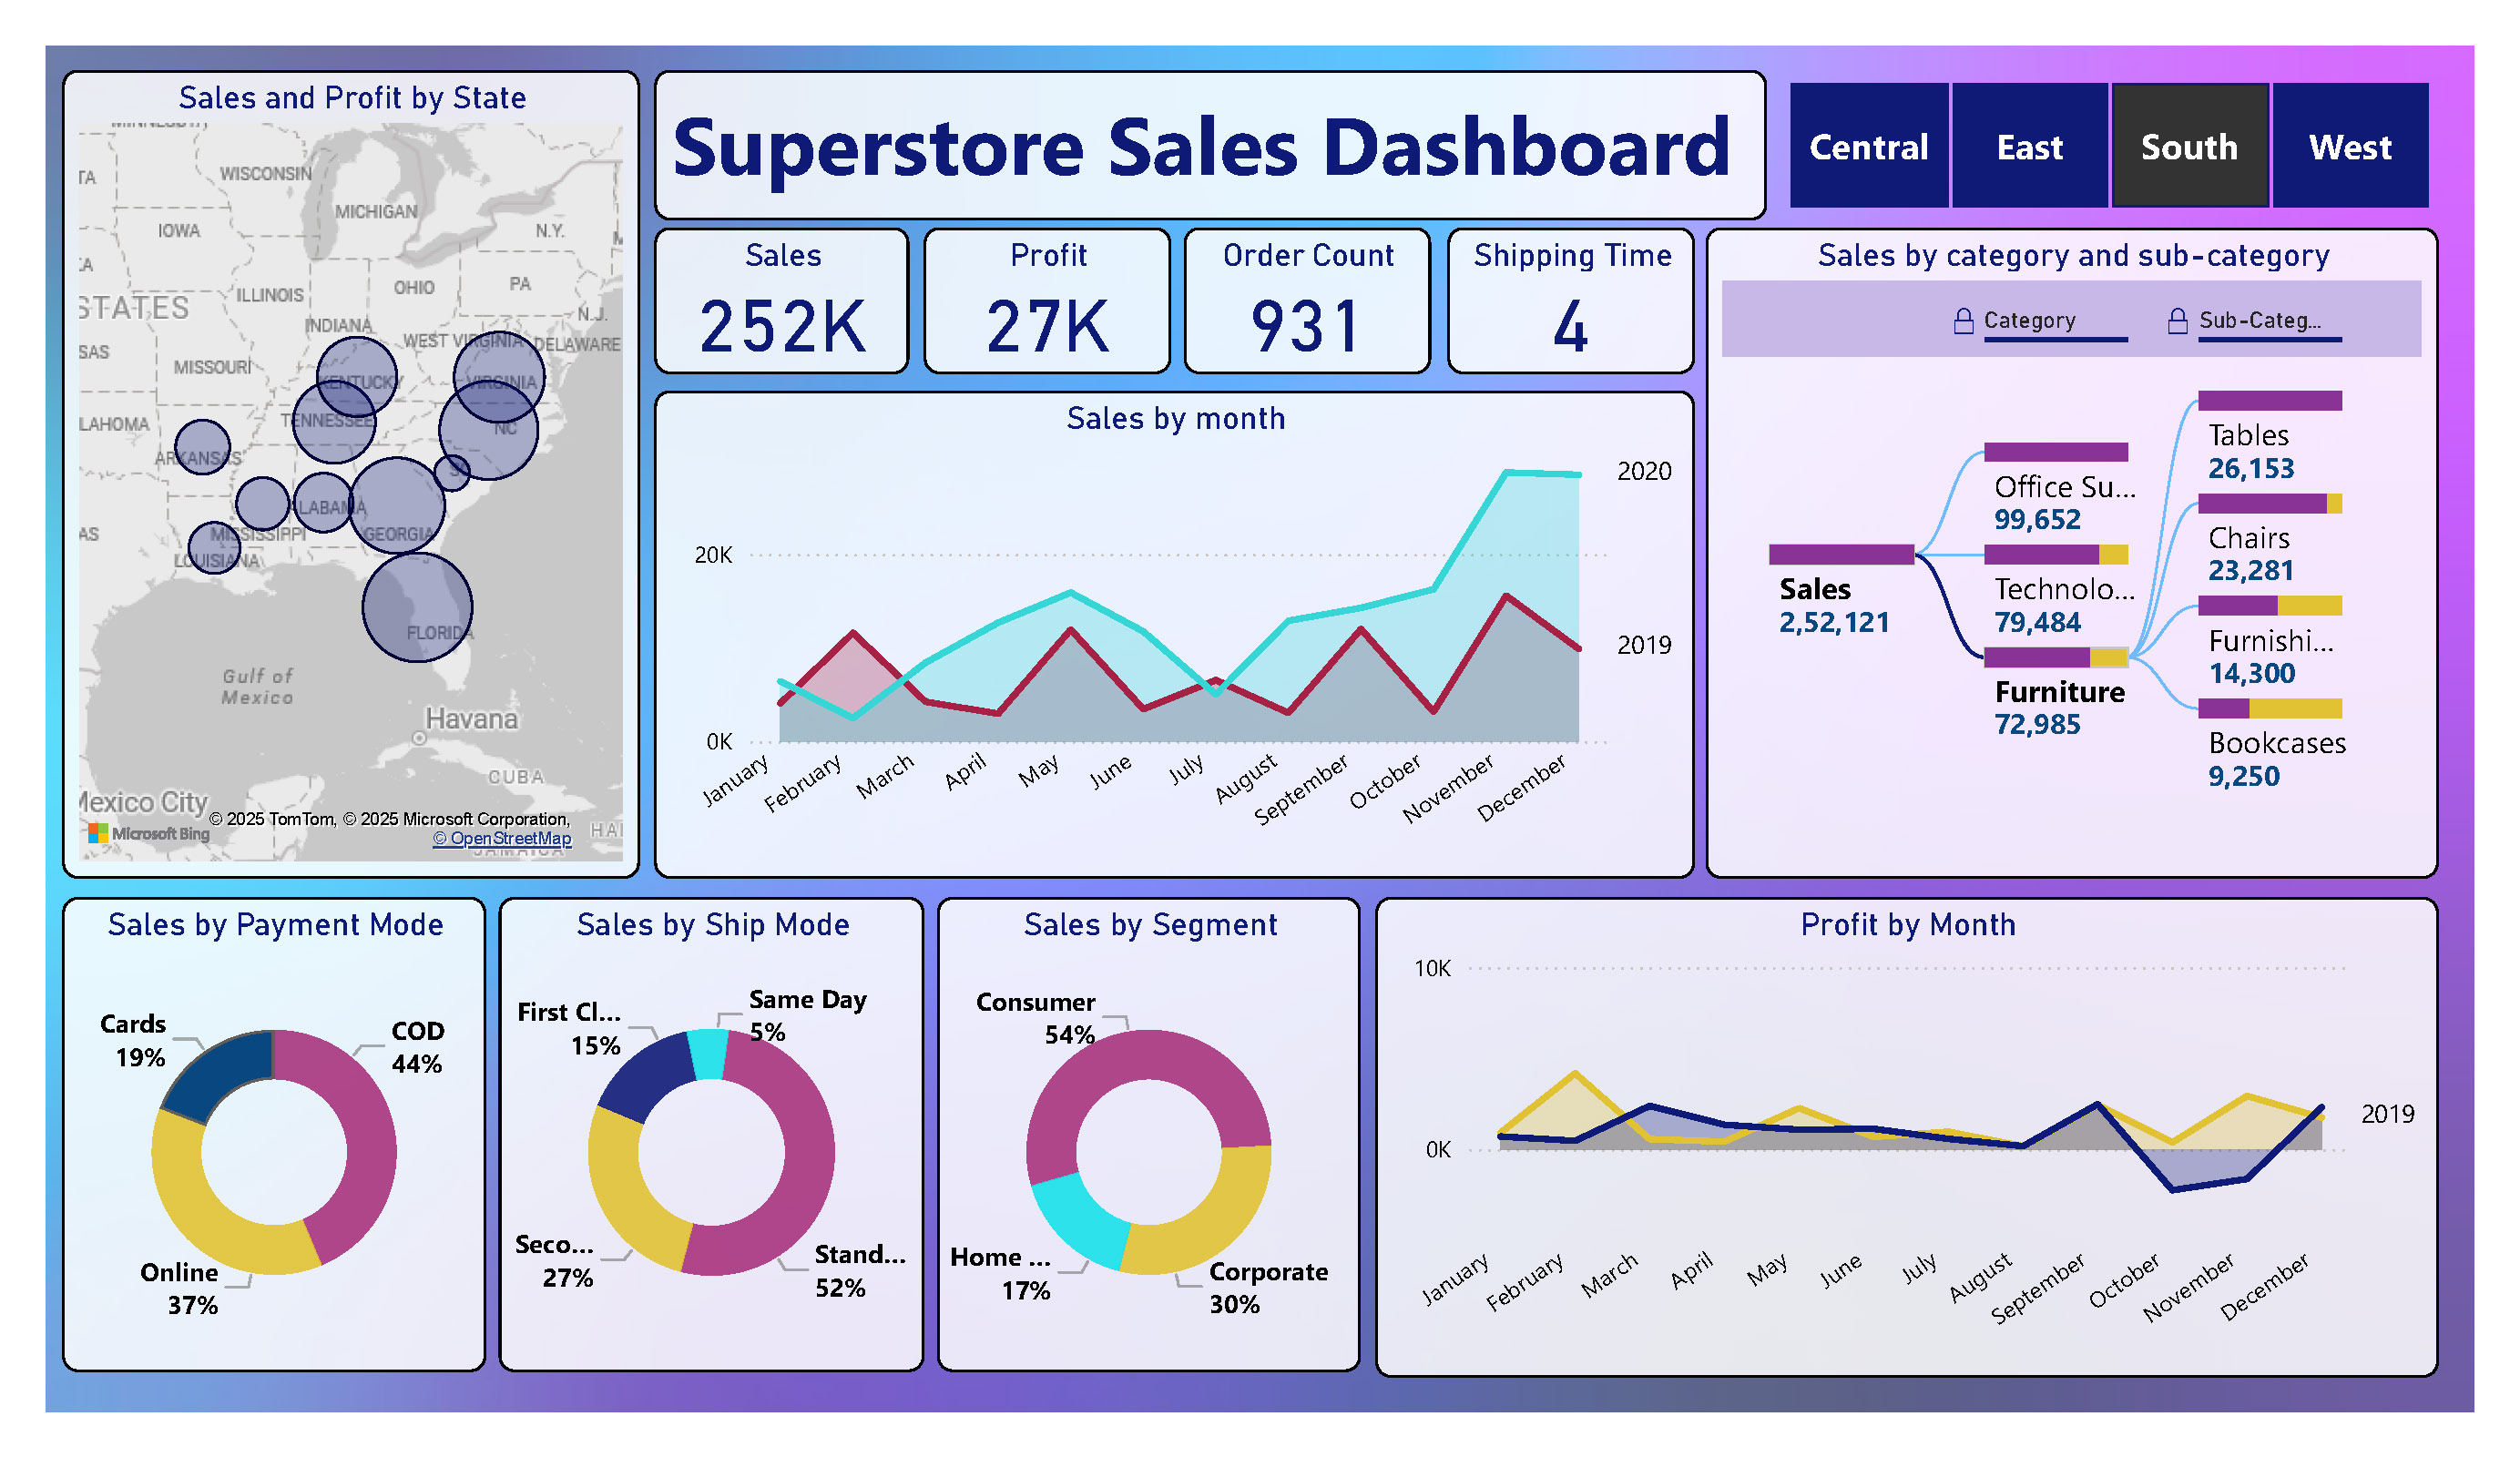

The dashboard page shown, as its layout file describes it:
{"tool":"powerbi","page":{"name":"Page 1","canvas":[1280,720],"ordinal":0},"visuals":[{"type":"areaChart","title":"Sales by month","fields":{"Y":["Sum(SuperStore_Sales_Dataset.Sales)"],"Category":["SuperStore_Sales_Dataset.Order Date.Variation.Date Hierarchy.Month"],"Series":["SuperStore_Sales_Dataset.Order Date.Variation.Date Hierarchy.Year"]},"box":[321.5,181.6,547.2,257.7],"z":0},{"type":"areaChart","title":"Profit by Month","fields":{"Category":["SuperStore_Sales_Dataset.Order Date.Variation.Date Hierarchy.Month"],"Series":["SuperStore_Sales_Dataset.Order Date.Variation.Date Hierarchy.Year"],"Y":["Sum(SuperStore_Sales_Dataset.Profit)"]},"box":[700.6,449.1,560.7,252.8],"z":1000},{"type":"textbox","box":[321.5,13.5,585.3,78.5],"z":2000},{"type":"slicer","fields":{"Values":["SuperStore_Sales_Dataset.Region"]},"box":[894.5,13.5,385.3,78.5],"z":3000},{"type":"map","title":"Sales and Profit by State","fields":{"Size":["Sum(SuperStore_Sales_Dataset.Sales)"],"Category":["SuperStore_Sales_Dataset.State"]},"box":[8.6,13.5,304.3,425.8],"z":4000},{"type":"card","title":"Sales","fields":{"Values":["Sum(SuperStore_Sales_Dataset.Sales)"]},"box":[321.5,95.7,133.7,77.3],"z":5000},{"type":"card","title":"Profit","fields":{"Values":["Sum(SuperStore_Sales_Dataset.Profit)"]},"box":[462.6,95.7,130.1,77.3],"z":6000},{"type":"card","title":"Order Count","fields":{"Values":["CountNonNull(SuperStore_Sales_Dataset.Order ID)"]},"box":[600,95.7,130.1,77.3],"z":7000},{"type":"card","title":"Shipping Time","fields":{"Values":["Avg(SuperStore_Sales_Dataset.Shipping Time)"]},"box":[738.7,95.7,130.1,77.3],"z":8000},{"type":"donutChart","title":"Sales by Payment Mode","fields":{"Y":["Sum(SuperStore_Sales_Dataset.Sales)"],"Category":["SuperStore_Sales_Dataset.Payment Mode"]},"box":[8.6,449.1,223.3,250.3],"z":9000},{"type":"donutChart","title":"Sales by Ship Mode","fields":{"Y":["Sum(SuperStore_Sales_Dataset.Sales)"],"Category":["SuperStore_Sales_Dataset.Ship Mode"]},"box":[239.3,449.1,223.3,250.3],"z":10000},{"type":"donutChart","title":"Sales by Segment","fields":{"Y":["Sum(SuperStore_Sales_Dataset.Sales)"],"Category":["SuperStore_Sales_Dataset.Segment"]},"box":[469.9,449.1,223.3,250.3],"z":11000},{"type":"decompositionTreeVisual","title":"Sales by category and sub-category","fields":{"Analyze":["Sum(SuperStore_Sales_Dataset.Sales)"],"ExplainBy":["SuperStore_Sales_Dataset.Category","SuperStore_Sales_Dataset.Sub-Category"]},"box":[874.9,95.7,386.5,343.6],"z":12000}]}

Visuals, with their boxes in screenshot pixels (x1, y1, x2, y2):
"Sales by month" areaChart: <region>655, 386, 1679, 869</region>
"Profit by Month" areaChart: <region>1364, 887, 2414, 1360</region>
textbox: <region>655, 71, 1750, 219</region>
slicer - SuperStore_Sales_Dataset.Region: <region>1728, 71, 2449, 219</region>
"Sales and Profit by State" map: <region>68, 71, 638, 869</region>
"Sales" card: <region>655, 225, 905, 370</region>
"Profit" card: <region>919, 225, 1162, 370</region>
"Order Count" card: <region>1176, 225, 1420, 370</region>
"Shipping Time" card: <region>1436, 225, 1679, 370</region>
"Sales by Payment Mode" donutChart: <region>68, 887, 486, 1356</region>
"Sales by Ship Mode" donutChart: <region>501, 887, 919, 1356</region>
"Sales by Segment" donutChart: <region>933, 887, 1351, 1356</region>
"Sales by category and sub-category" decompositionTreeVisual: <region>1691, 225, 2414, 869</region>
